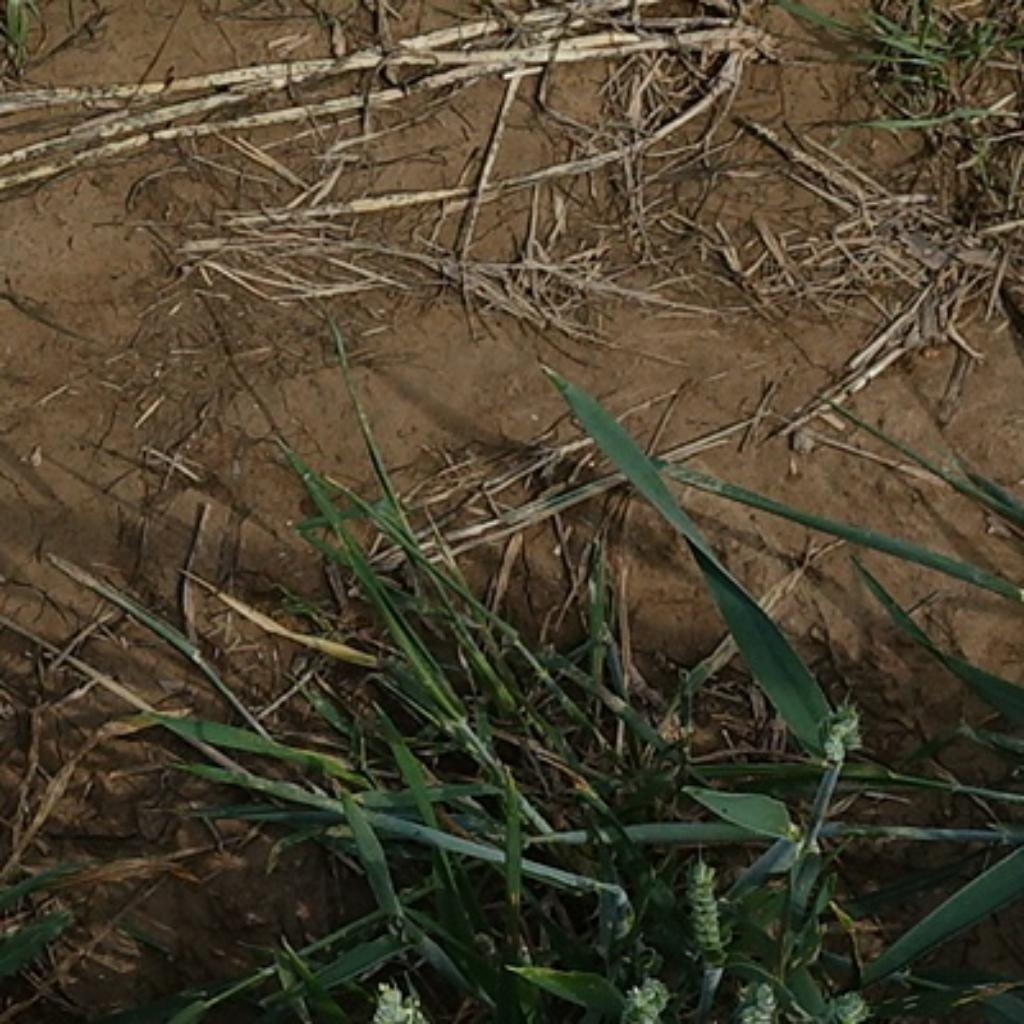0-0: (678, 861, 732, 957), (806, 696, 862, 760), (729, 977, 788, 1024), (626, 973, 675, 1024), (823, 990, 875, 1024)
